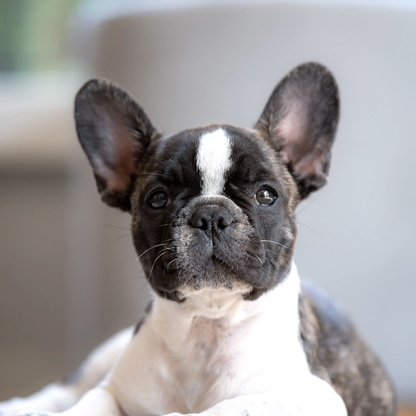bulldog: (70, 61, 345, 335)
